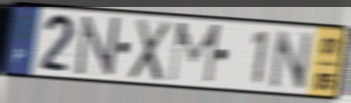1: (250, 29, 271, 87)
2: (36, 12, 78, 76)
M: (166, 20, 224, 86)
N: (268, 27, 315, 91), (75, 15, 122, 78)
X: (126, 16, 174, 84)
